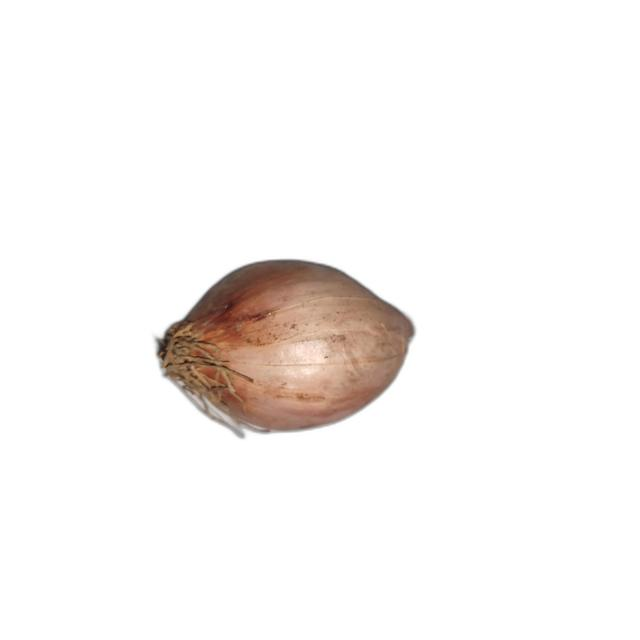onion: (158, 259, 418, 440)
